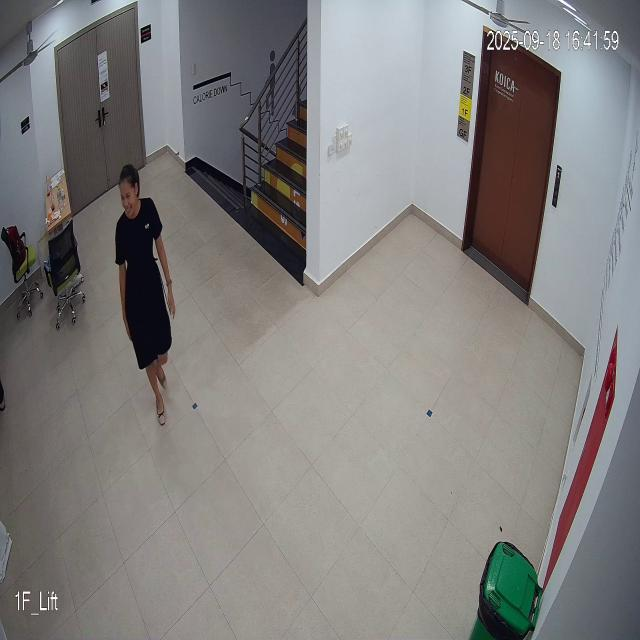face: (116, 162, 143, 227)
